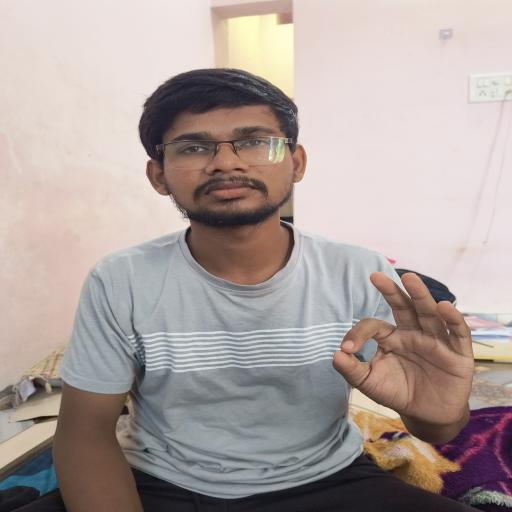Previous: (306, 260, 504, 434)
